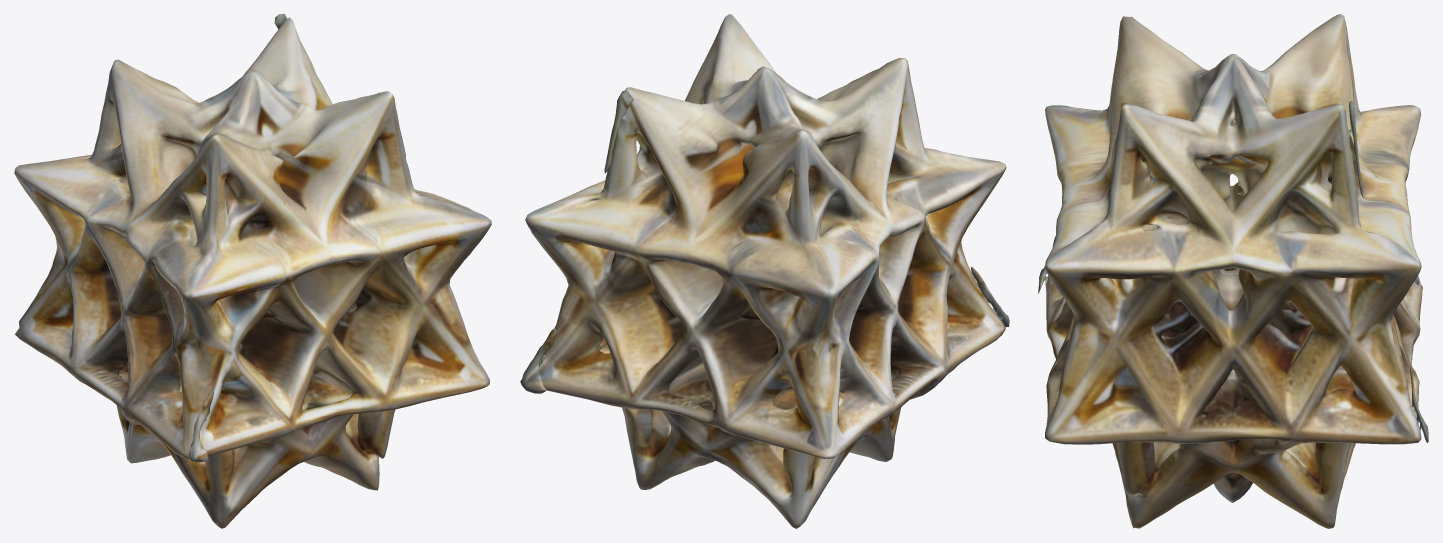
Rendered from merkaba_3d.glb.
3 views of the same model, side by side, from view 1: azimuth 30°, elevation 25°; view 2: azimuth 150°, elevation 25°; view 3: azimuth 270°, elevation 25° (orthographic). The views are drawn at different scales.
Visible parts, largest first — view 1: tripo_node_29e97d8e-ab9b-4029-b168-36aded6cf19a; view 2: tripo_node_29e97d8e-ab9b-4029-b168-36aded6cf19a; view 3: tripo_node_29e97d8e-ab9b-4029-b168-36aded6cf19a.
Part boxes in pixels (x1=…): tripo_node_29e97d8e-ab9b-4029-b168-36aded6cf19a: x1=14, y1=14, x2=491, y2=528; tripo_node_29e97d8e-ab9b-4029-b168-36aded6cf19a: x1=520, y1=14, x2=1009, y2=528; tripo_node_29e97d8e-ab9b-4029-b168-36aded6cf19a: x1=1038, y1=14, x2=1428, y2=528.
Bounding box in the file's own units: 0.5624 × 0.7291 × 0.5766.
Materials: 1 (1 with a texture image).
